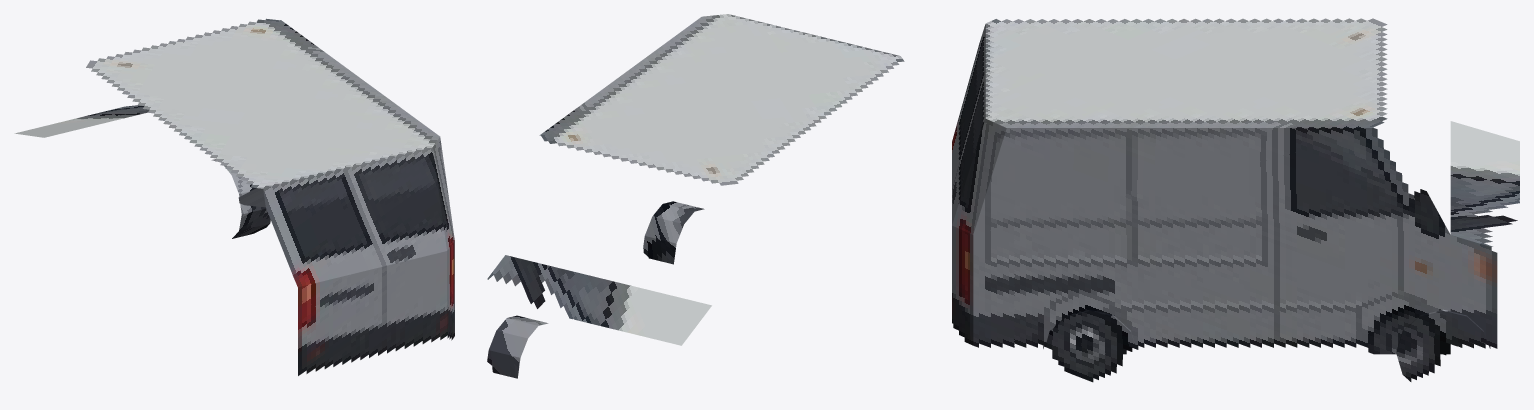
The model's file is InteractiveTrigger_quest82205.glb.
3 renders of one model, left to right at view 1: azimuth 30°, elevation 25°; view 2: azimuth 150°, elevation 25°; view 3: azimuth 270°, elevation 25°, orthographic. The views are drawn at different scales.
Visible parts, largest first — view 1: 25DBG_Interaction_Car_10_F_1; view 2: 25DBG_Interaction_Car_10_F_1; view 3: 25DBG_Interaction_Car_10_F_1.
Part boxes in pixels (bbox=[...]): 25DBG_Interaction_Car_10_F_1: bbox=[14, 18, 454, 375]; 25DBG_Interaction_Car_10_F_1: bbox=[487, 14, 904, 378]; 25DBG_Interaction_Car_10_F_1: bbox=[952, 18, 1519, 382].
Size of the model in its own units: 1.67 by 1.8 by 3.48.
Materials: 1 (1 with a texture image).
